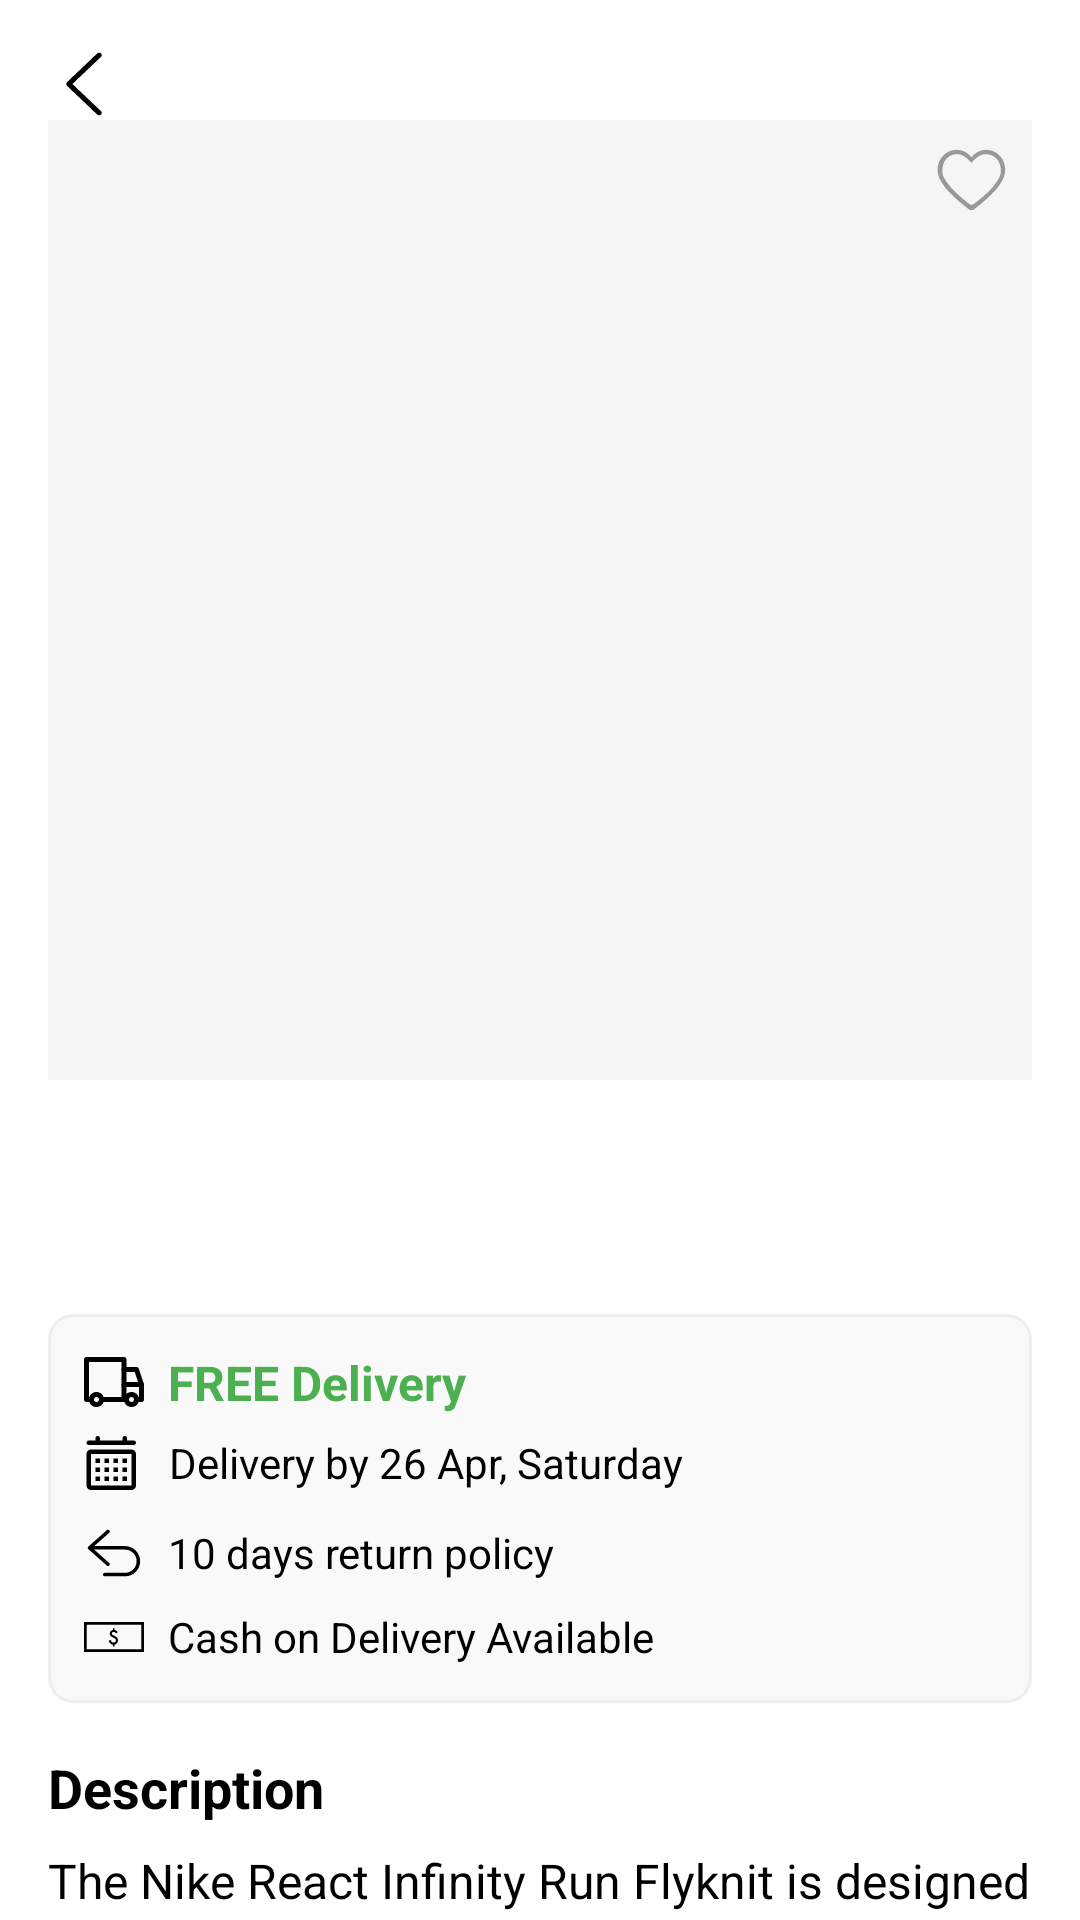

Where icons sit on this 1080*1920 app screen, as (x1, y1, x2, y2):
Add to favorites: (937, 150, 1005, 210)
Back: (66, 52, 102, 116)
truck: (84, 1357, 144, 1407)
